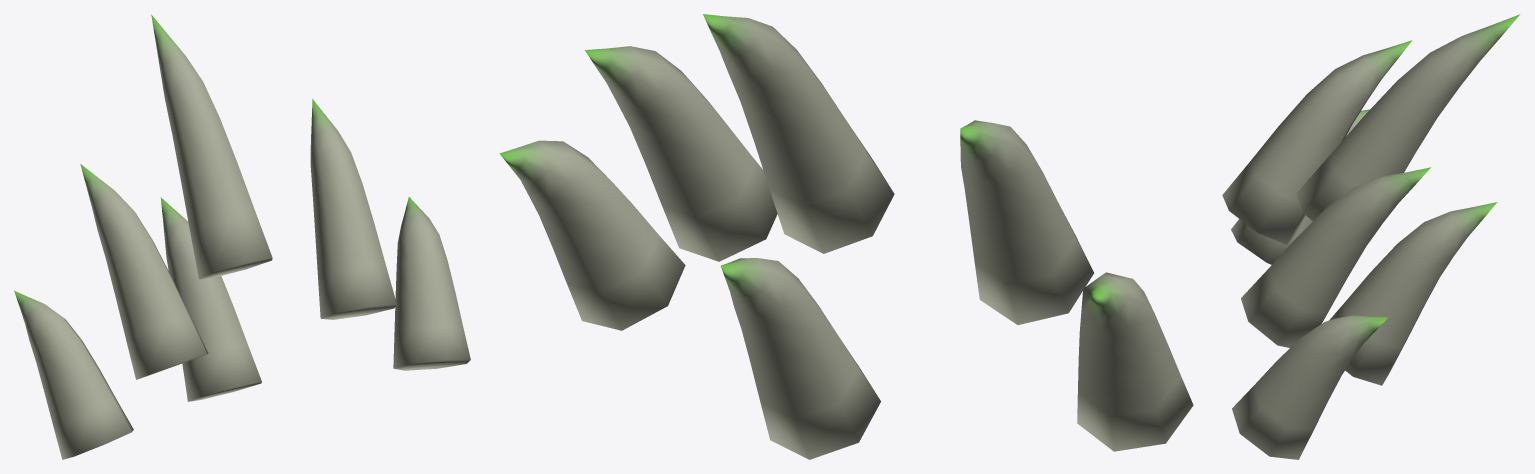
Rendered from undead_titan_parts.glb.
3 renders of one model, left to right at view 1: azimuth 30°, elevation 25°; view 2: azimuth 150°, elevation 25°; view 3: azimuth 270°, elevation 25°, orthographic. The views are drawn at different scales.
Visible parts, largest first — view 1: r0_CC_Base_Spine02; view 2: r0_CC_Base_Spine02; view 3: r0_CC_Base_Spine02.
Part boxes in pixels (x1,y1,x2,y2): r0_CC_Base_Spine02: [14, 14, 470, 459]; r0_CC_Base_Spine02: [499, 14, 1193, 459]; r0_CC_Base_Spine02: [1222, 14, 1520, 459].
Size of the model in its own units: 0.5859 by 0.4647 by 0.3441.
